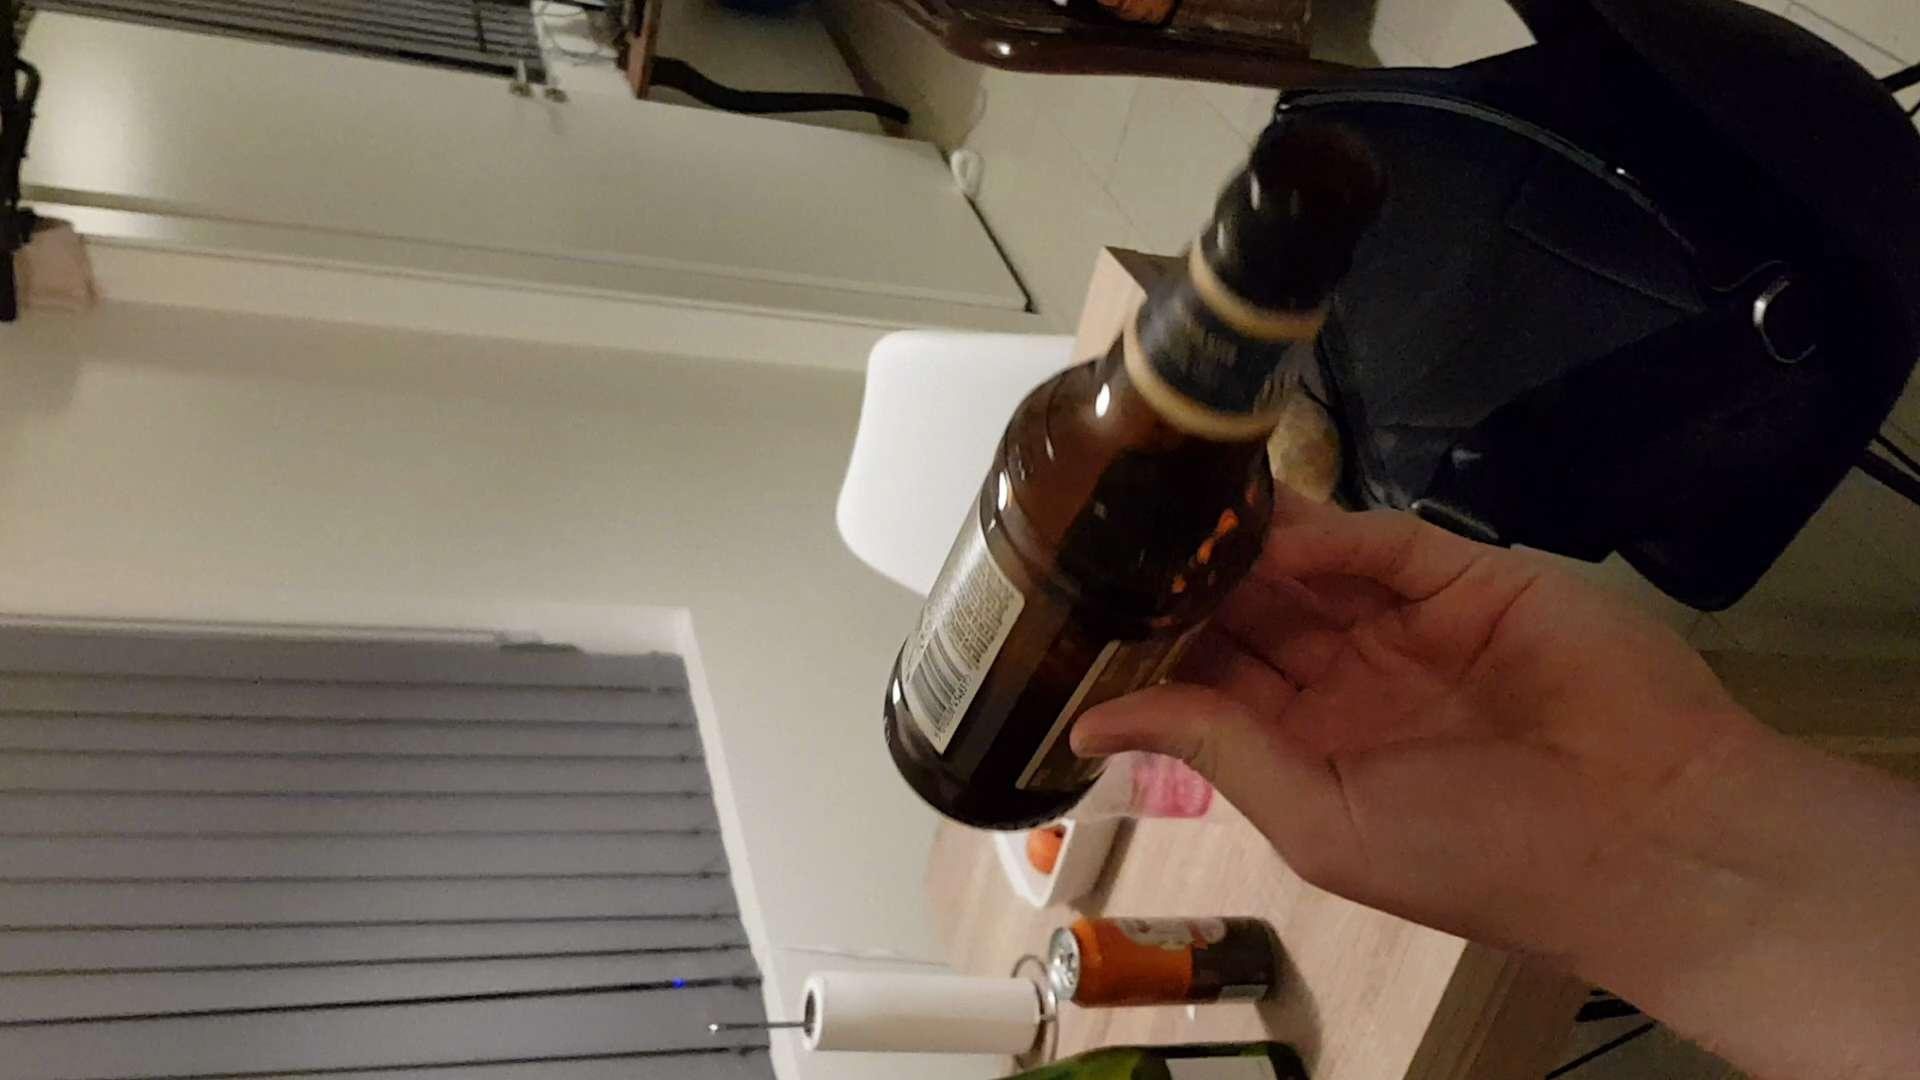Bottle: (887, 82, 1386, 828)
